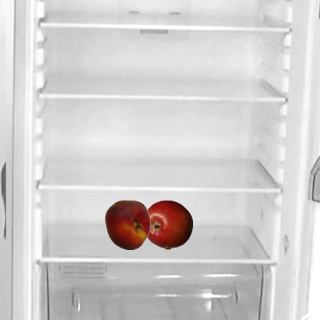Apple Braeburn: (142, 199, 192, 249)
Nectarine Flat: (102, 199, 152, 249)
